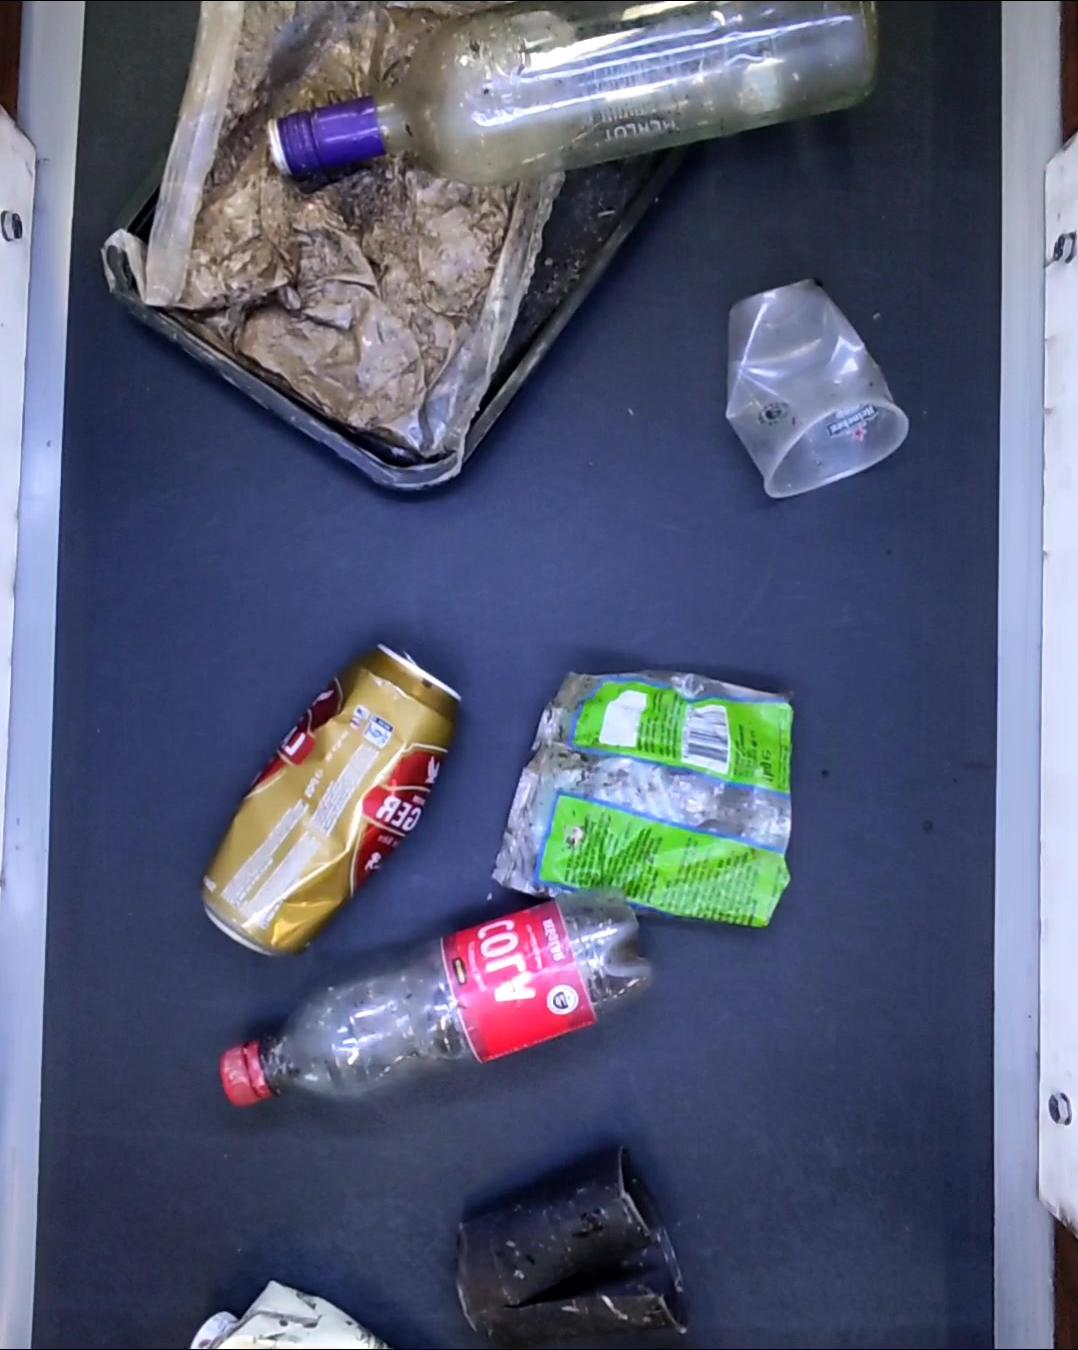Drankblikjes: (200, 647, 461, 959)
Drankflessen - 1-2 liter: (216, 894, 652, 1109)
Voedselverpakkingen: (98, 0, 690, 500), (496, 665, 798, 932)
